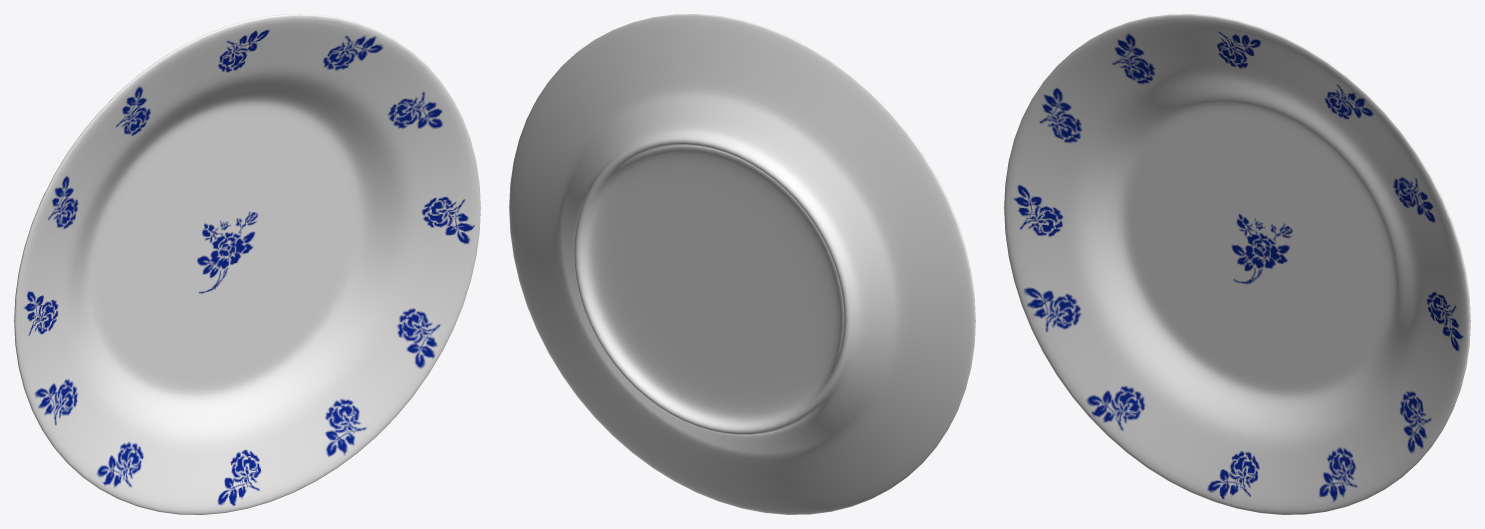
File: PlateSandwichScene2.obj
3 renders of one model, left to right at view 1: azimuth 30°, elevation 25°; view 2: azimuth 150°, elevation 25°; view 3: azimuth 330°, elevation 25°, orthographic.
Visible parts, largest first — view 1: Plate_Plate_auv, Plate_Ceramic; view 2: Plate_Ceramic; view 3: Plate_Plate_auv, Plate_Ceramic.
Boxes of the visible parts, left/top/right/bottom form: Plate_Plate_auv: left=16, top=16, right=479, bottom=513; Plate_Ceramic: left=14, top=14, right=480, bottom=514; Plate_Ceramic: left=509, top=14, right=975, bottom=514; Plate_Plate_auv: left=1005, top=16, right=1468, bottom=513; Plate_Ceramic: left=1004, top=14, right=1470, bottom=514.
Bounding box in the file's own units: 7.33 × 7.33 × 0.8774.
Materials: 2 (1 with a texture image).
